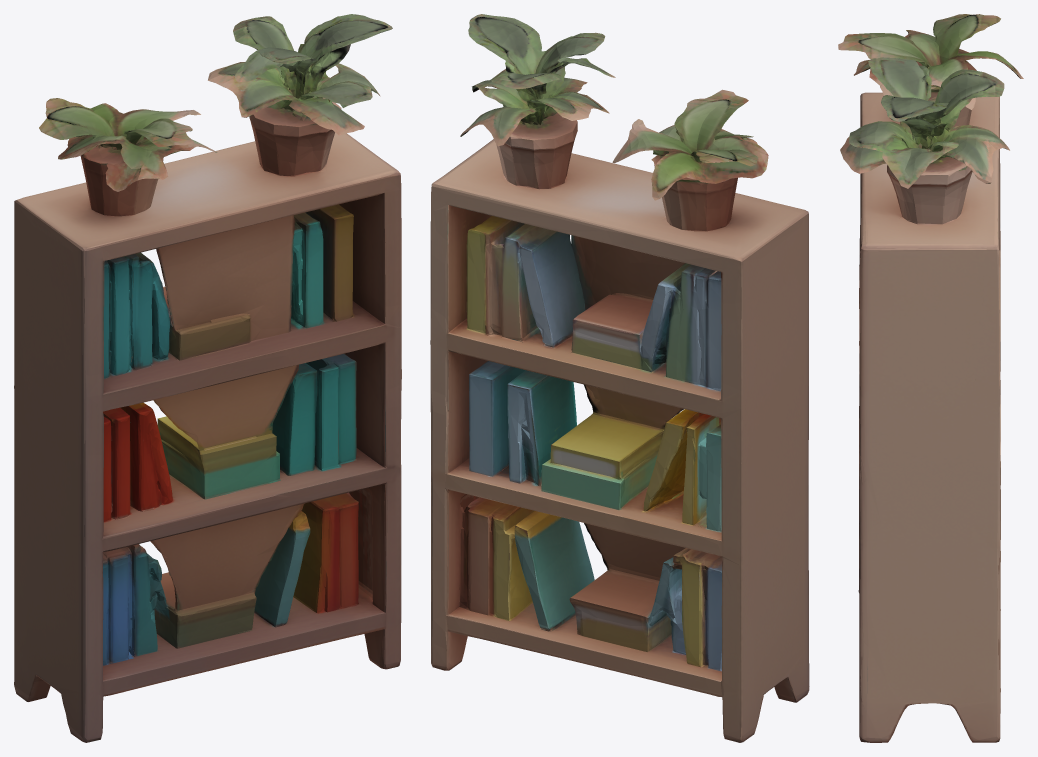
The model's file is bookshelf.glb.
3 views of the same model, side by side, from view 1: azimuth 30°, elevation 25°; view 2: azimuth 150°, elevation 25°; view 3: azimuth 270°, elevation 25° (orthographic). The views are drawn at different scales.
Parts seen in each view (by area): view 1: world; view 2: world; view 3: world.
Part boxes in pixels (x1,y1,x2,y2): world: (14,14,401,742); world: (430,14,809,742); world: (838,14,1023,742).
Size of the model in its own units: 0.5455 by 0.9995 by 0.2673.
1 material, 1 textured.
